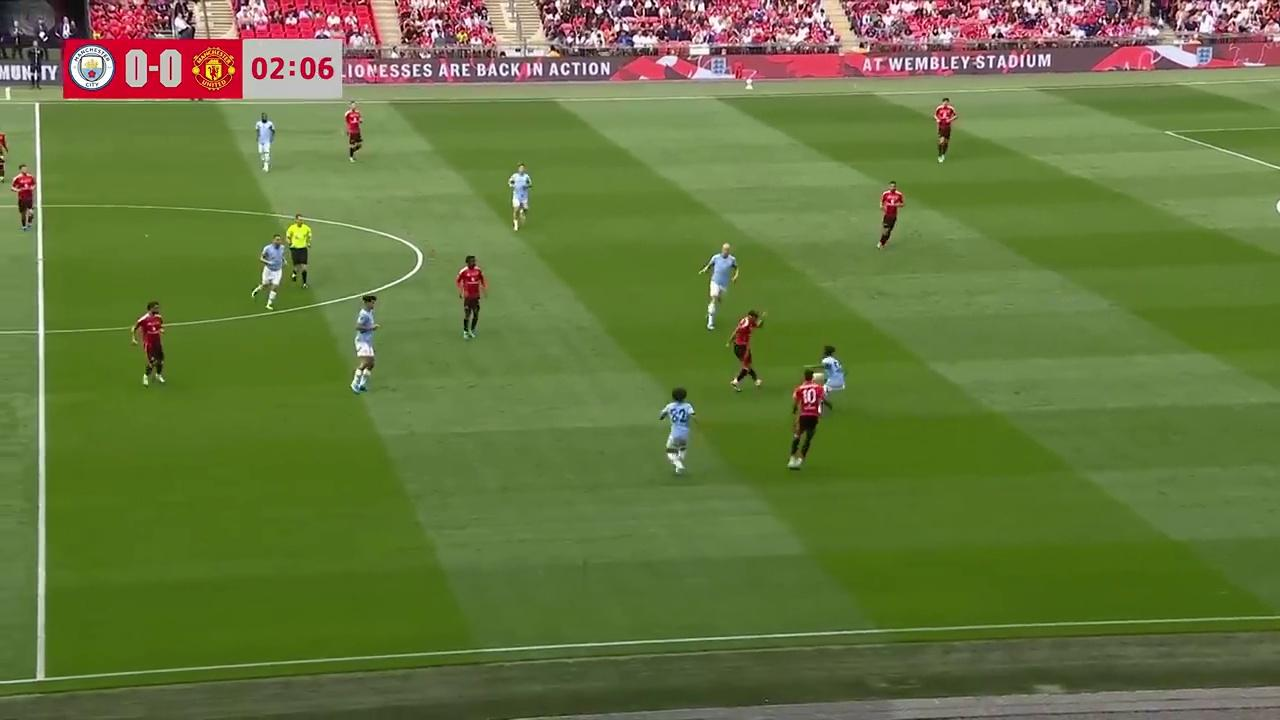player: (788, 369, 828, 471), (698, 242, 738, 329), (659, 387, 697, 475), (726, 308, 765, 391), (132, 300, 167, 386), (350, 294, 380, 393), (456, 255, 488, 339), (251, 234, 285, 309), (877, 181, 904, 250), (816, 345, 845, 409), (507, 162, 532, 232), (933, 96, 958, 162), (11, 163, 35, 231), (255, 112, 275, 172), (343, 102, 363, 162), (0, 127, 9, 184)
referee: (284, 213, 312, 288)
